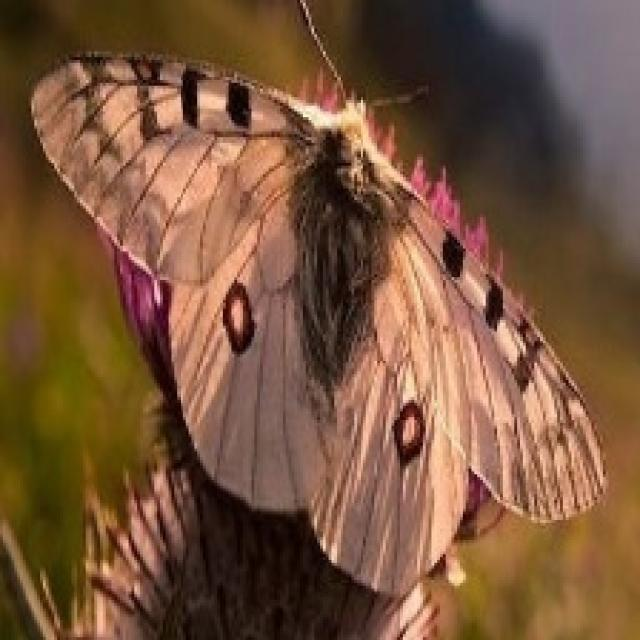butterfly: (26, 0, 608, 597)
